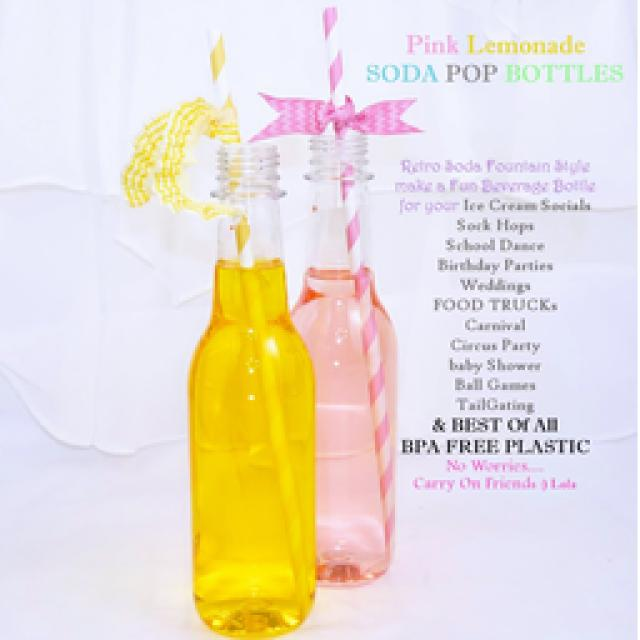plastic_soda_bottles: (190, 144, 321, 629), (286, 138, 399, 585)
